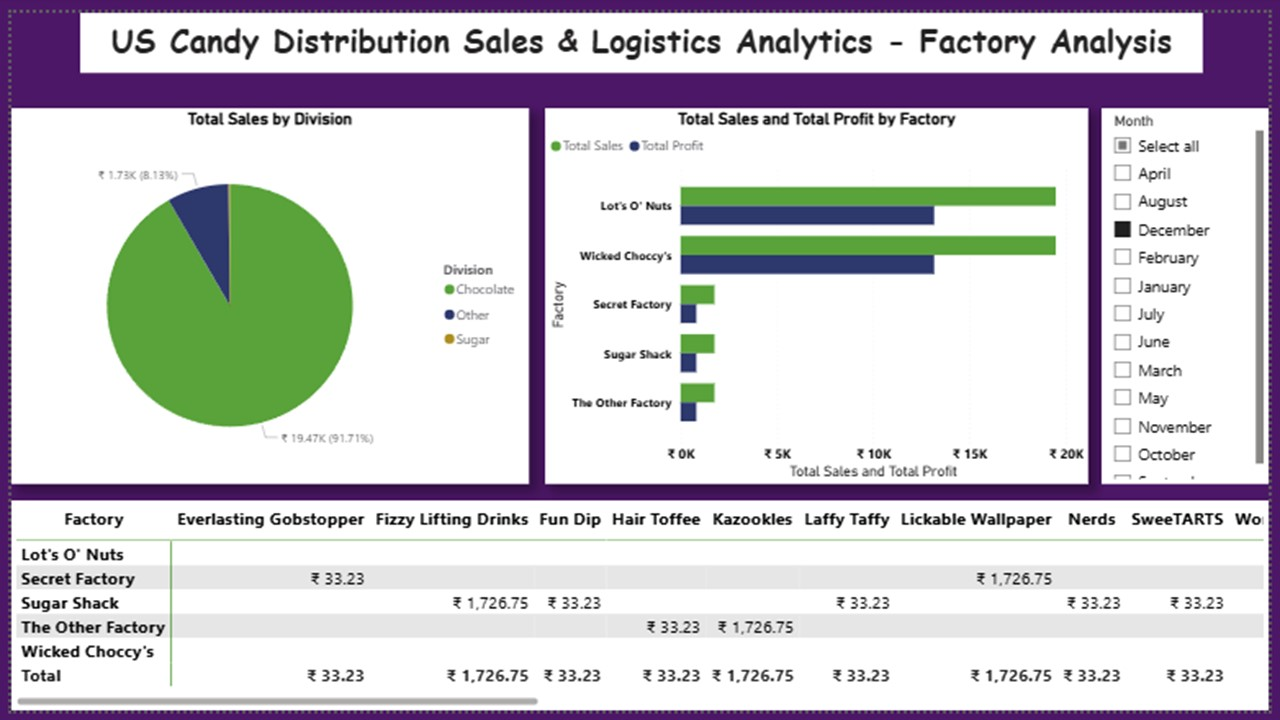

This screenshot's page, from the dashboard's own definition file:
{"tool":"powerbi","page":{"name":"Factory Analysis","canvas":[1280,720],"ordinal":4},"visuals":[{"type":"clusteredBarChart","fields":{"Category":["Candy Product.Factory"],"Y":["Candy Sales.Total Sales","Candy Sales.Total Profit"]},"box":[543.3,98.3,553.3,388.3],"z":0},{"type":"pieChart","fields":{"Category":["Candy Targets.Division"],"Y":["Candy Sales.Total Sales"]},"box":[0,98.3,526.7,388.3],"z":1000},{"type":"slicer","fields":{"Values":["Date Table.Month"]},"box":[1110,98.3,170,388.3],"z":2000},{"type":"pivotTable","fields":{"Rows":["Candy Factories.Factory"],"Values":["Candy Sales.Total Sales"],"Columns":["Candy Product.Product Name"]},"box":[0,503.3,1280,216.7],"z":3000},{"type":"textbox","box":[70,0,1143.3,61.7],"z":4000}]}

Visuals, with their boxes in screenshot pixels (x1, y1, x2, y2), scaled from the page's 1280x720 canvas onto the 1280x720 screenshot:
clusteredBarChart - Candy Product.Factory x Candy Sales.Total Sales: rect(543, 98, 1097, 487)
pieChart - Candy Targets.Division x Candy Sales.Total Sales: rect(0, 98, 527, 487)
slicer - Date Table.Month: rect(1110, 98, 1279, 487)
pivotTable - Candy Factories.Factory x Candy Sales.Total Sales: rect(0, 503, 1279, 719)
textbox: rect(70, 0, 1213, 62)
